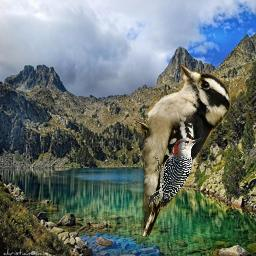Woodpecker: (136, 64, 231, 236), (149, 137, 204, 207)
